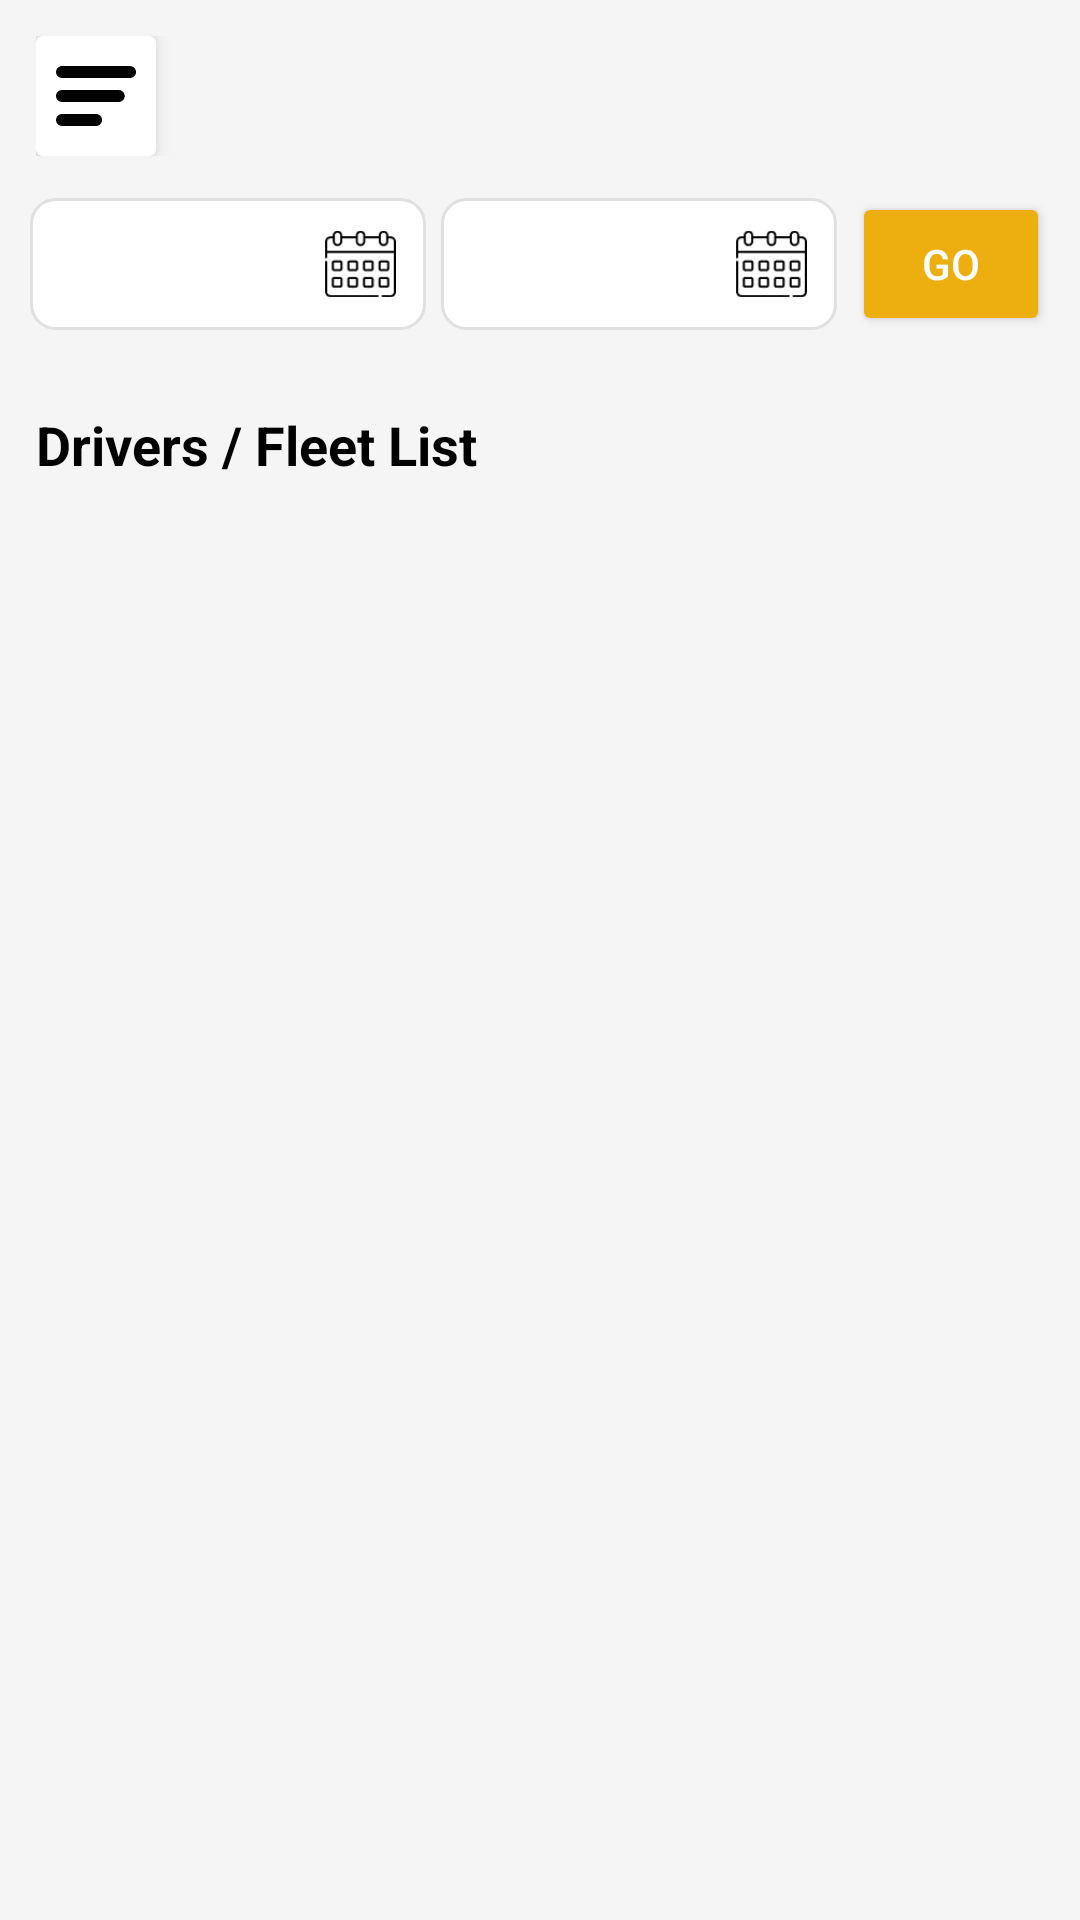

Icon bounding boxes for this 1080px x 1920px phone screenshot, format rect(x1, y1, x2, y2):
calendar: rect(325, 231, 396, 297), rect(736, 231, 807, 297)
